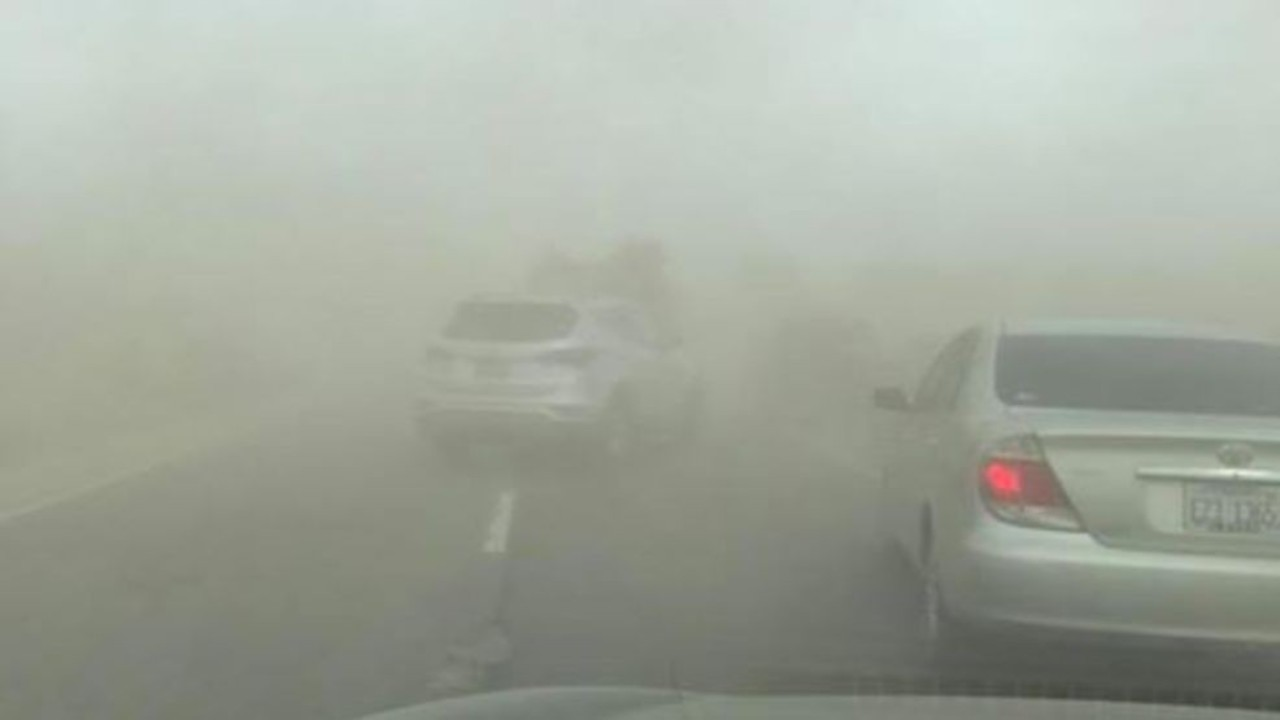car: (898, 317, 1277, 651), (406, 291, 704, 462)
